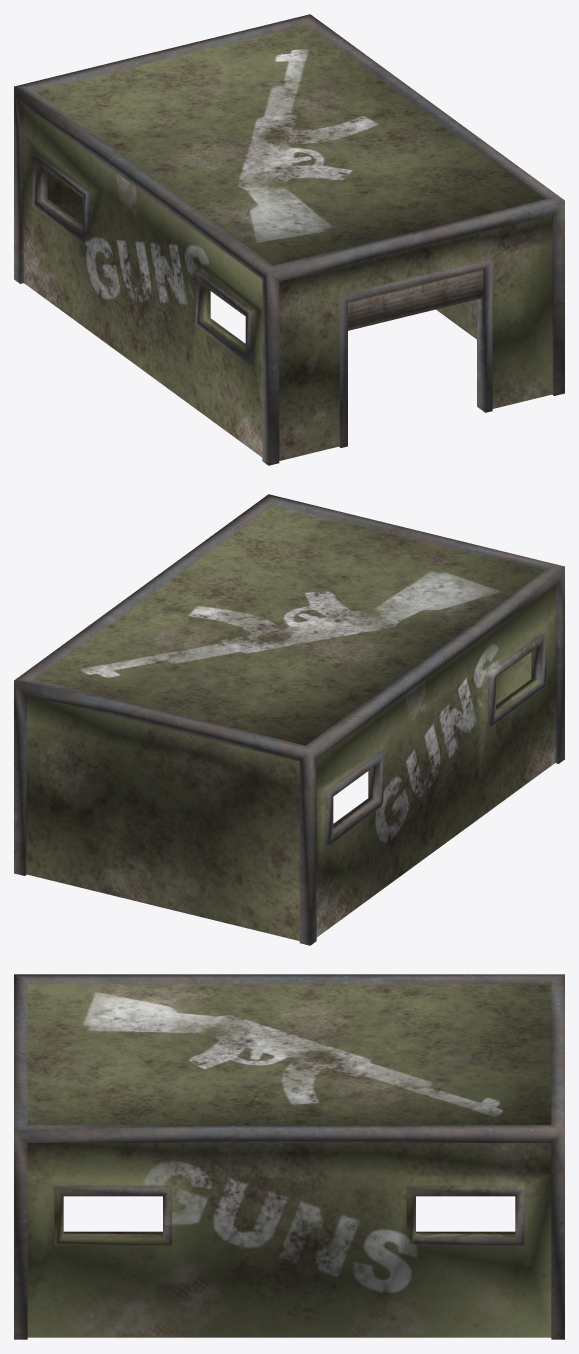
Rendered from Armory.fbx.
The picture shows the model from 3 angles, top to bottom: view 1: azimuth 30°, elevation 25°; view 2: azimuth 150°, elevation 25°; view 3: azimuth 270°, elevation 25°; orthographic projection. The views are drawn at different scales.
Parts seen in each view (by area): view 1: Armory, Armory_Door; view 2: Armory; view 3: Armory.
Boxes of the visible parts, x1,y1,x2,y2 form: Armory: (14,14,564,465); Armory_Door: (348,270,483,330); Armory: (14,494,564,945); Armory: (14,974,564,1339).
Size of the model in its own units: 4.1 by 2.55 by 6.1.
